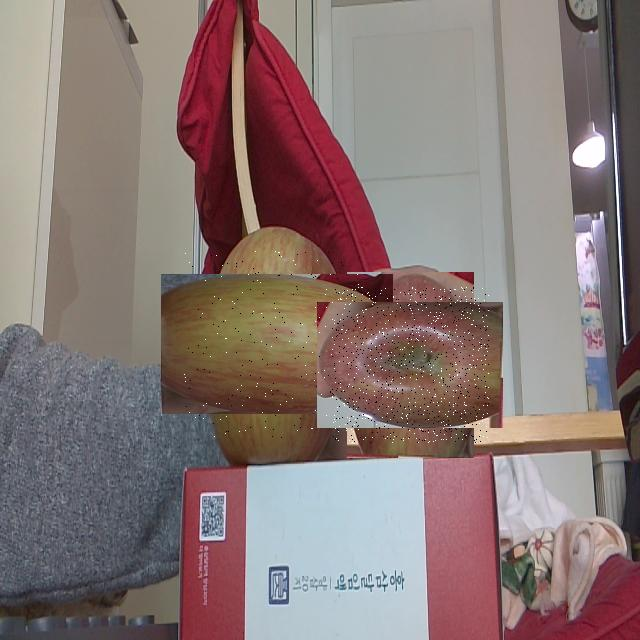apple: (183, 251, 370, 438), (332, 287, 489, 443)
